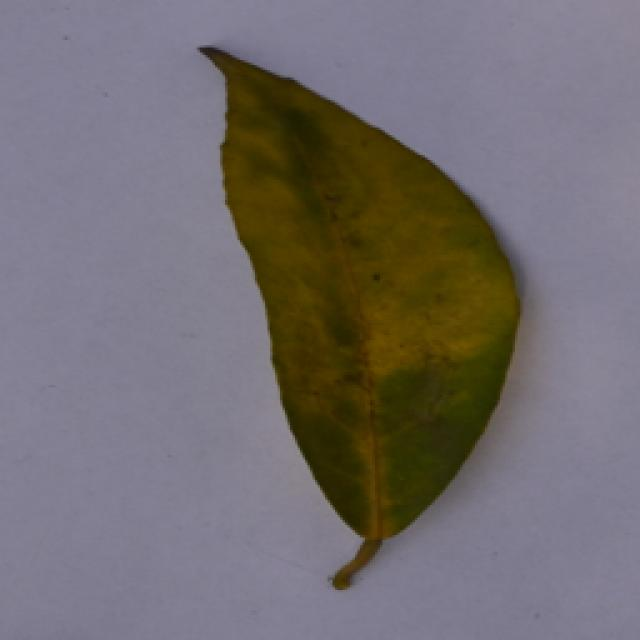blackspot: (192, 35, 540, 608)
